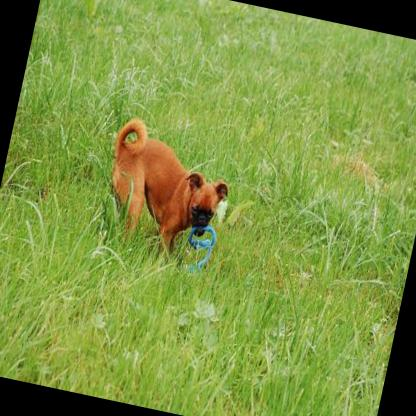Brabancon_griffon: (94, 111, 242, 260)
